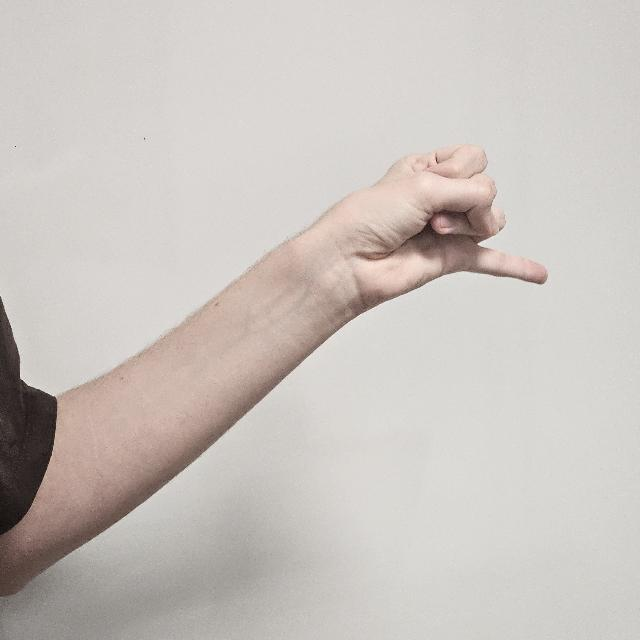Esquerda: (290, 126, 568, 310)
